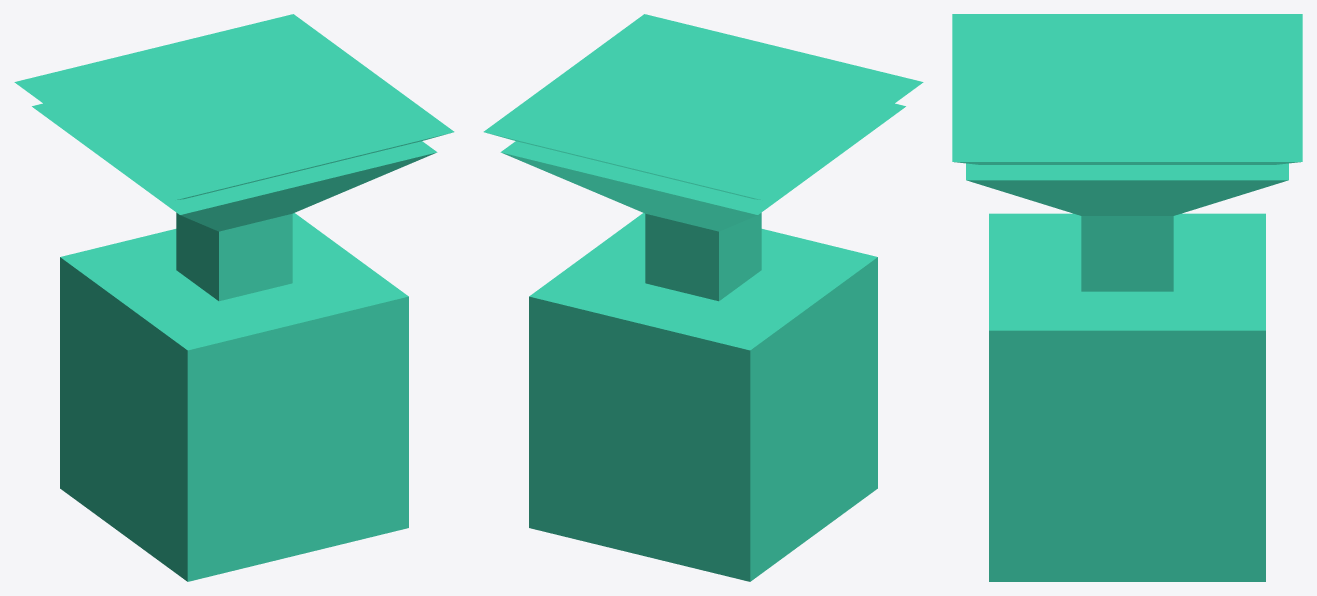
File: boxAntorcha.fbx
3 renders of one model, left to right at view 1: azimuth 30°, elevation 25°; view 2: azimuth 150°, elevation 25°; view 3: azimuth 270°, elevation 25°, orthographic. The views are drawn at different scales.
Parts seen in each view (by area): view 1: Cube; view 2: Cube; view 3: Cube.
Part boxes in pixels (x1=…): Cube: x1=14, y1=14, x2=454, y2=581; Cube: x1=483, y1=14, x2=923, y2=581; Cube: x1=952, y1=14, x2=1302, y2=581.
Bounding box in the file's own units: 2.53 × 3.47 × 2.53.
